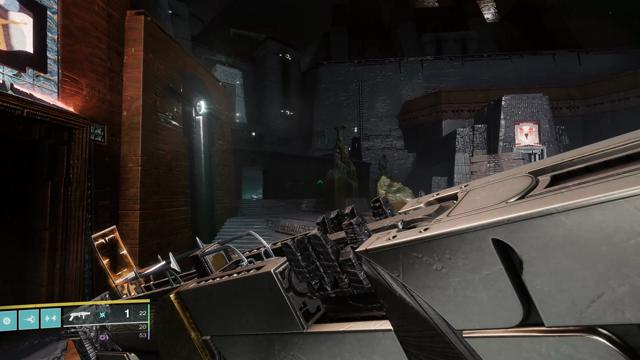give: (518, 126, 535, 142)
worship: (0, 0, 33, 54)
